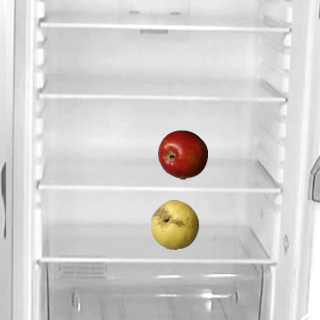Apple Braeburn: (157, 129, 207, 179)
Apple Golden 1: (149, 199, 199, 249)
